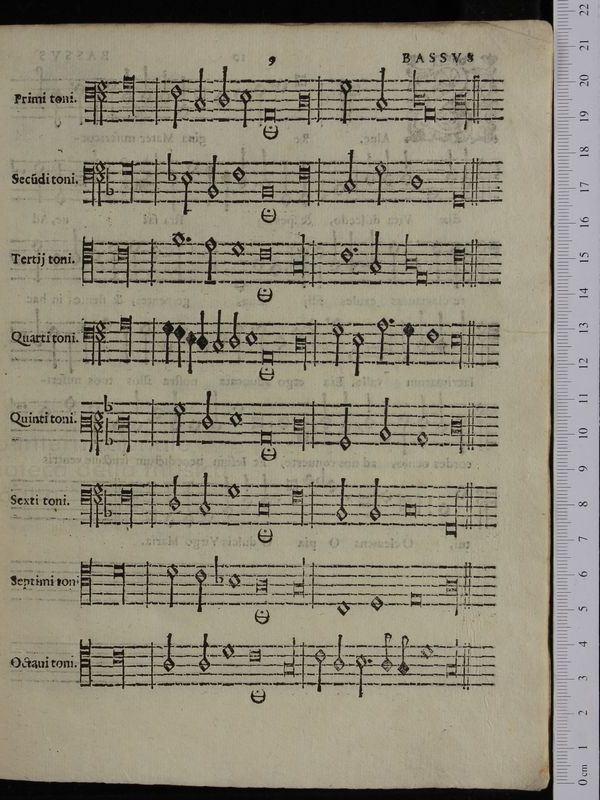barline: (460, 471, 479, 539)
breve_8: (397, 496, 424, 522), (252, 495, 275, 520)
f clef_5: (72, 472, 102, 525)
fermata: (249, 518, 278, 553)
flat_9: (99, 486, 113, 523)
longa_12: (441, 500, 462, 538)
longa_5: (115, 478, 137, 536), (286, 480, 306, 533)
minim_7: (166, 468, 182, 517)
minim_8: (196, 467, 212, 522)
minim_9: (366, 472, 383, 526), (332, 473, 348, 525)
semibreve_4: (223, 475, 244, 505)
